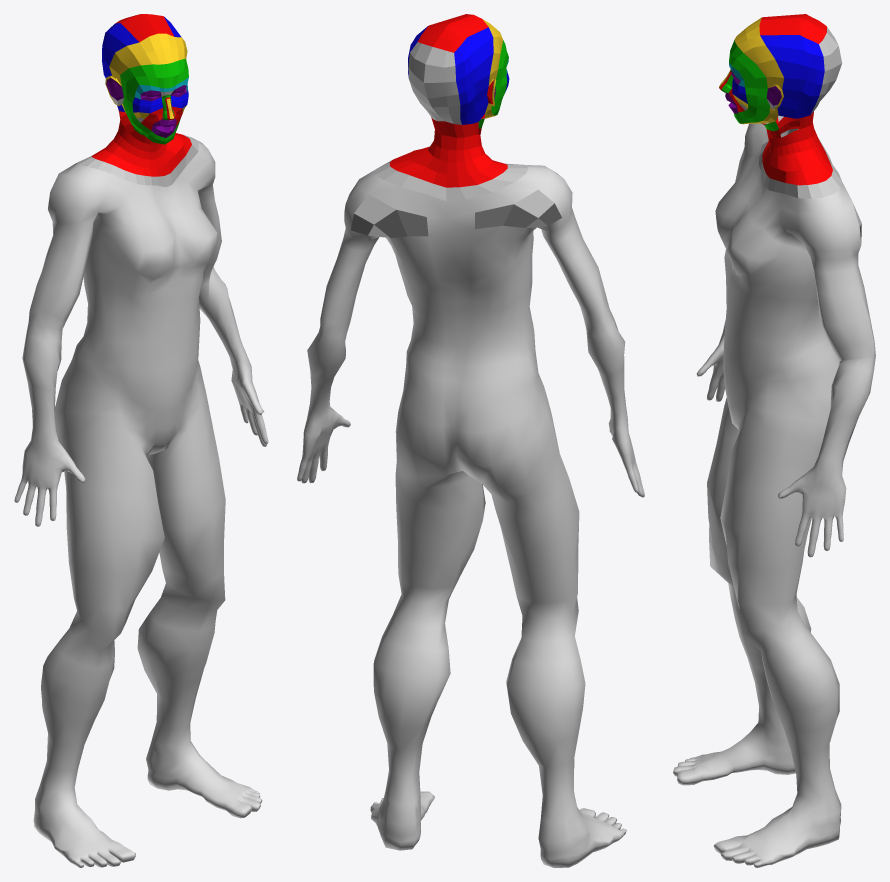
Rendered from Generic Mesh Pose.obj.
3 views of the same model, side by side, from view 1: azimuth 30°, elevation 25°; view 2: azimuth 150°, elevation 25°; view 3: azimuth 270°, elevation 25° (orthographic). The views are drawn at different scales.
Parts seen in each view (by area): view 1: GenericMesh2; view 2: GenericMesh2; view 3: GenericMesh2.
Boxes of the visible parts, box(x1,y1,x2,y2) form: GenericMesh2: box(14, 14, 268, 867); GenericMesh2: box(297, 14, 644, 867); GenericMesh2: box(673, 14, 875, 867).
Bounding box in the file's own units: 13.33 × 35.46 × 8.1.
